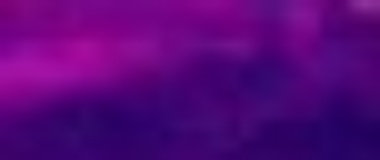Shadow: (167, 44, 320, 159), (2, 83, 167, 160), (320, 1, 380, 160)
